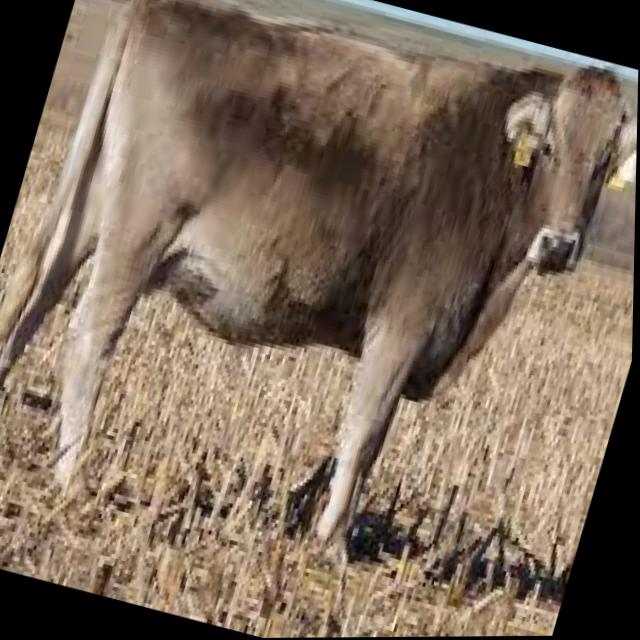cowFace: (392, 27, 639, 380)
